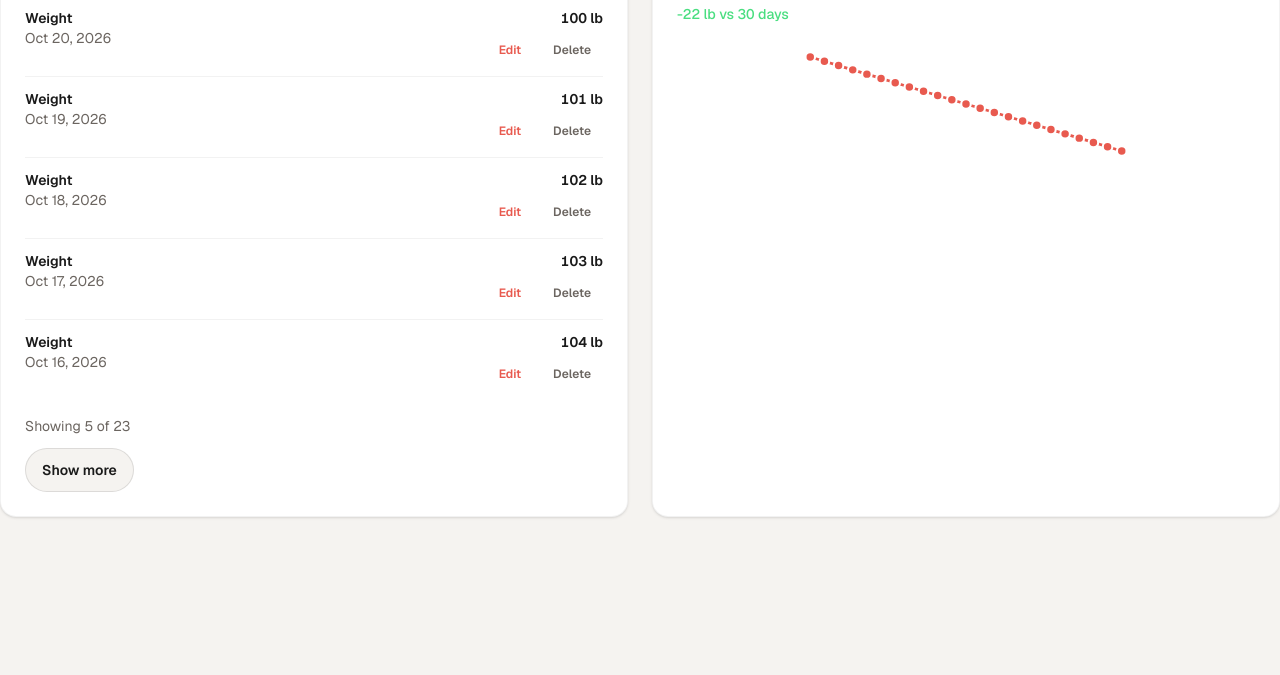
it: measurement history window › collapses back to 5 with Show less
Click the button with aria-label "Show more measurements" at {"x": 79, "y": 470}, box [25, 448, 134, 492]
(page scrolled)
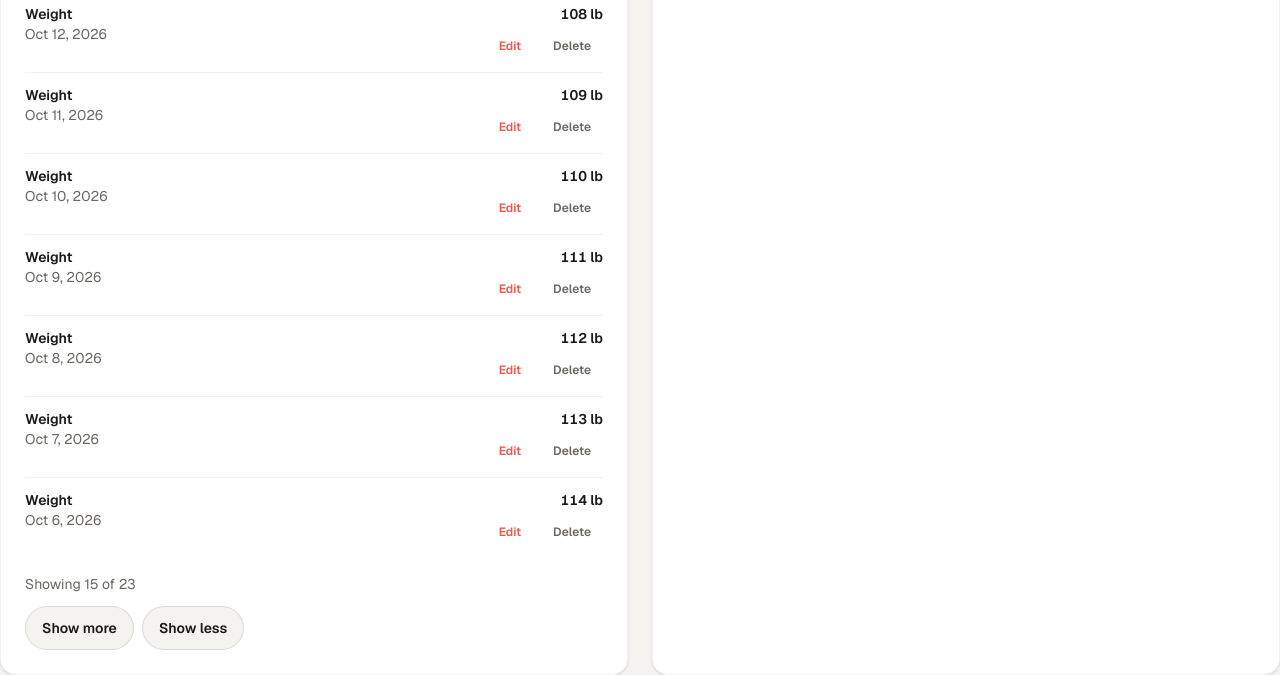
expect the text "Showing 15 of 23" is shown: met, box [25, 575, 136, 593]
Click the button with aria-label "Show less measurements" at {"x": 193, "y": 628}, box [142, 606, 244, 650]
(page scrolled)
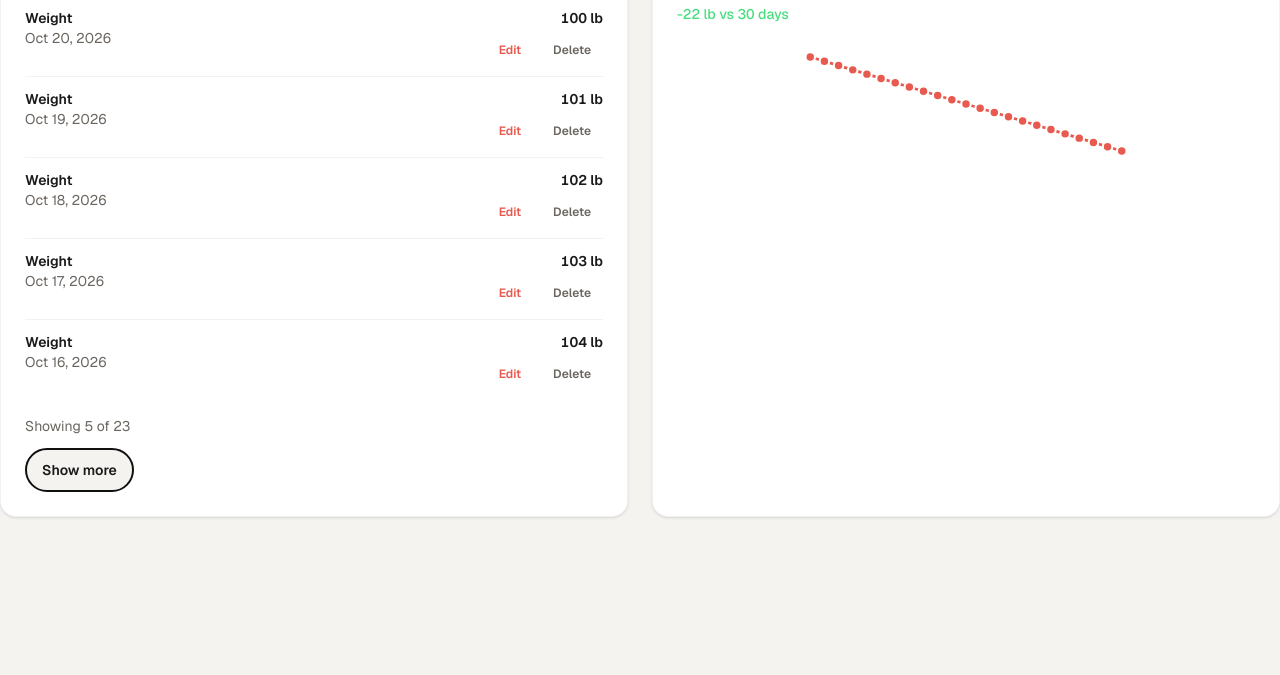
expect the text "Showing 5 of 23" is shown: met, box [25, 417, 130, 435]
expect the number of list items is 5: met, box [25, 8, 603, 77]; [25, 77, 603, 158]; [25, 158, 603, 239]; [25, 239, 603, 320]; [25, 320, 603, 400]
